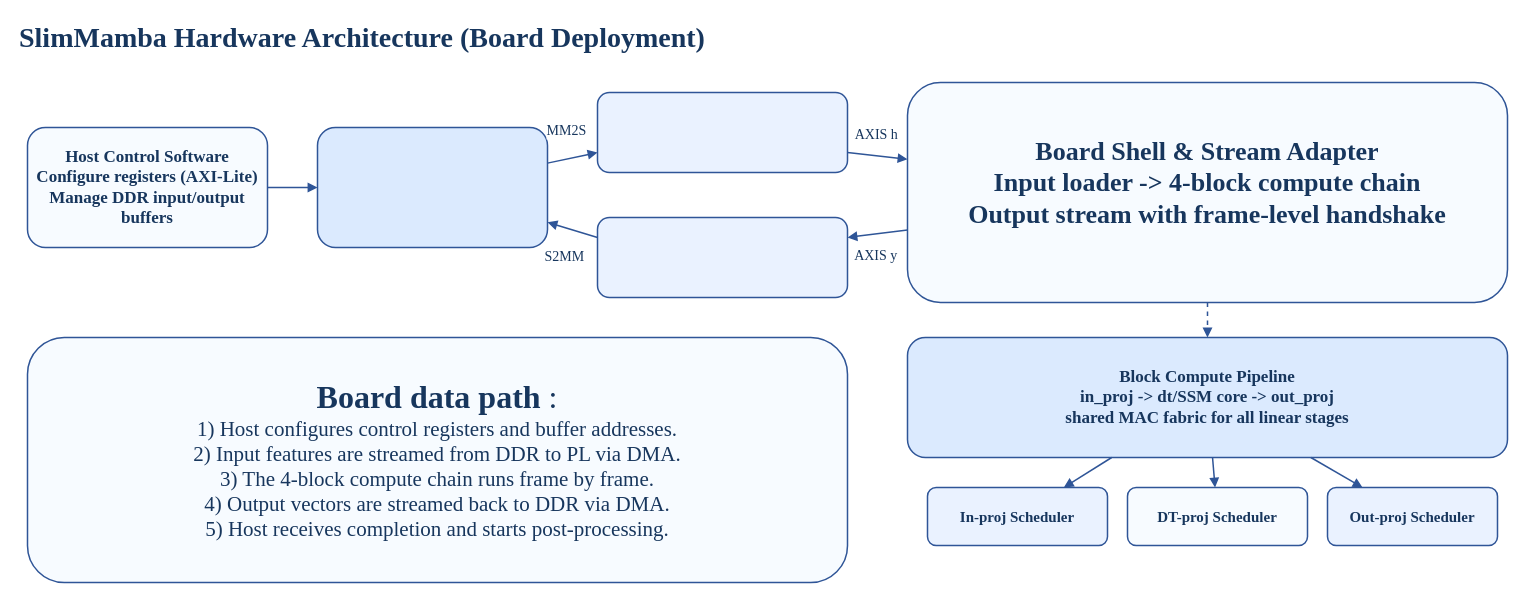
The diagram is 1525 pixels wide and 600 high, and some of its shapes have lost their labels. The shapes that lost their labels are listed below. From the top down, each one's centre as x and y in pixels, then its label:
[722,132]: axi_dma_h MM2S: DDR -> Stream(H)
[432,187]: Zynq MPSoC (PS) M_AXI_HPM0 (ctrl) S_AXI_HP0 (mem)
[722,257]: axi_dma_y S2MM: Stream(Y) -> DDR
